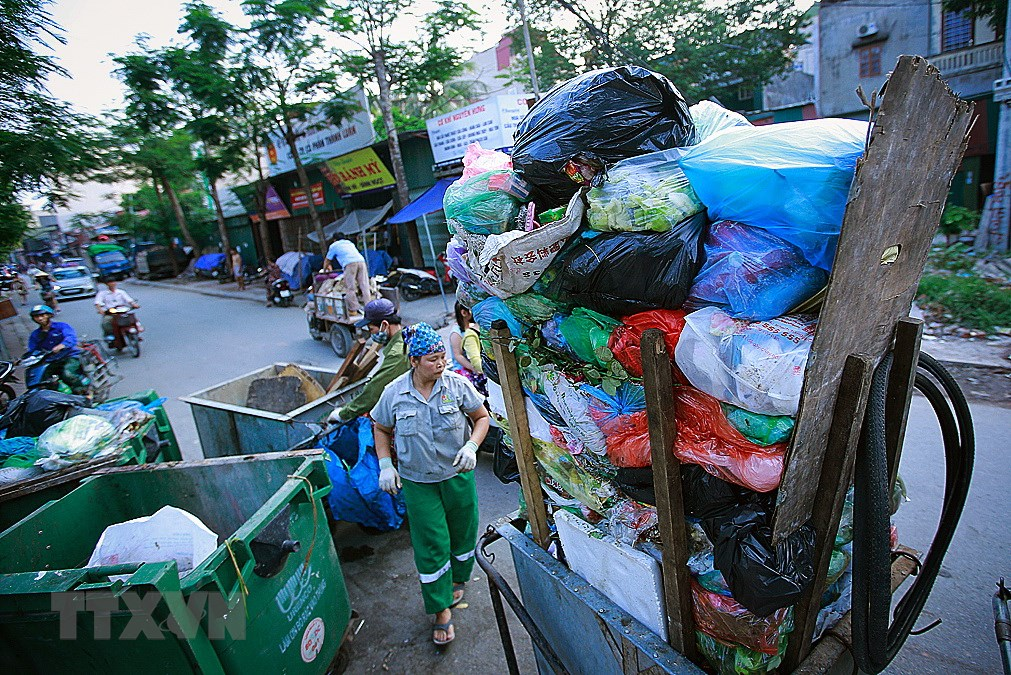plastic bag: (441, 63, 921, 675), (1, 371, 168, 492), (79, 500, 223, 582), (316, 422, 407, 533)
